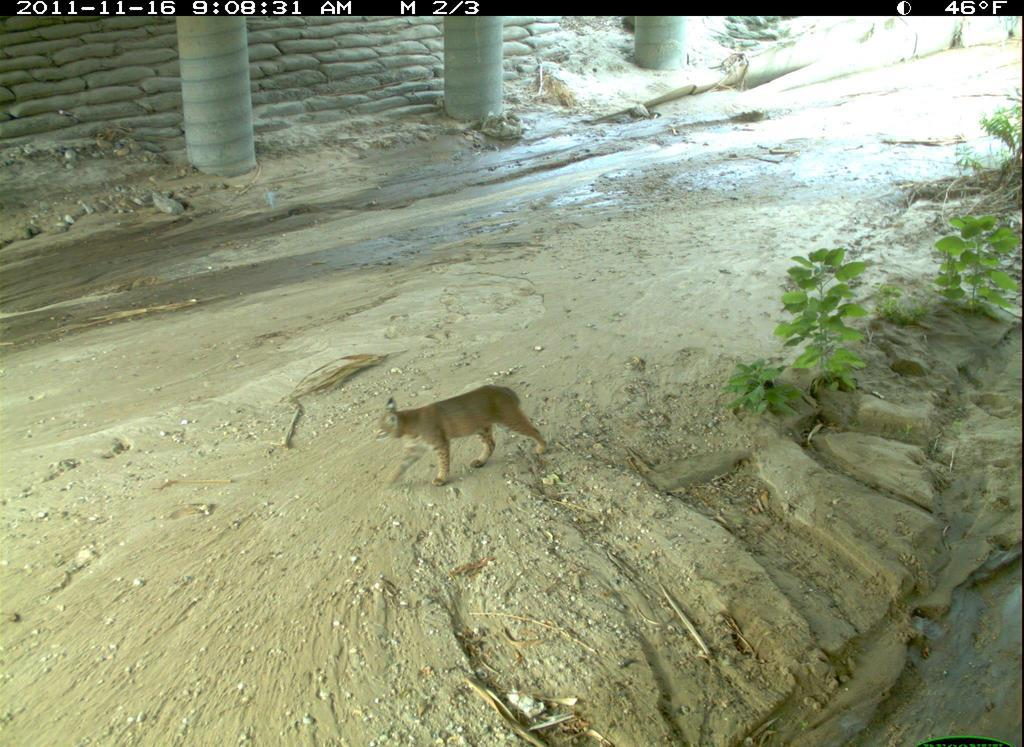bobcat: (363, 381, 552, 492)
